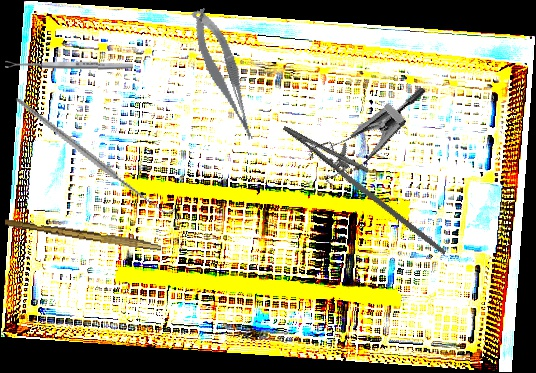Hook Surgical: (14, 58, 177, 252)
Micro Scissor: (187, 3, 260, 147)
Needle Holder: (269, 111, 468, 256)
Scalpel Handle: (4, 218, 162, 251)
Speculum: (299, 55, 428, 200)
Surgical Spoon: (4, 59, 134, 71)
